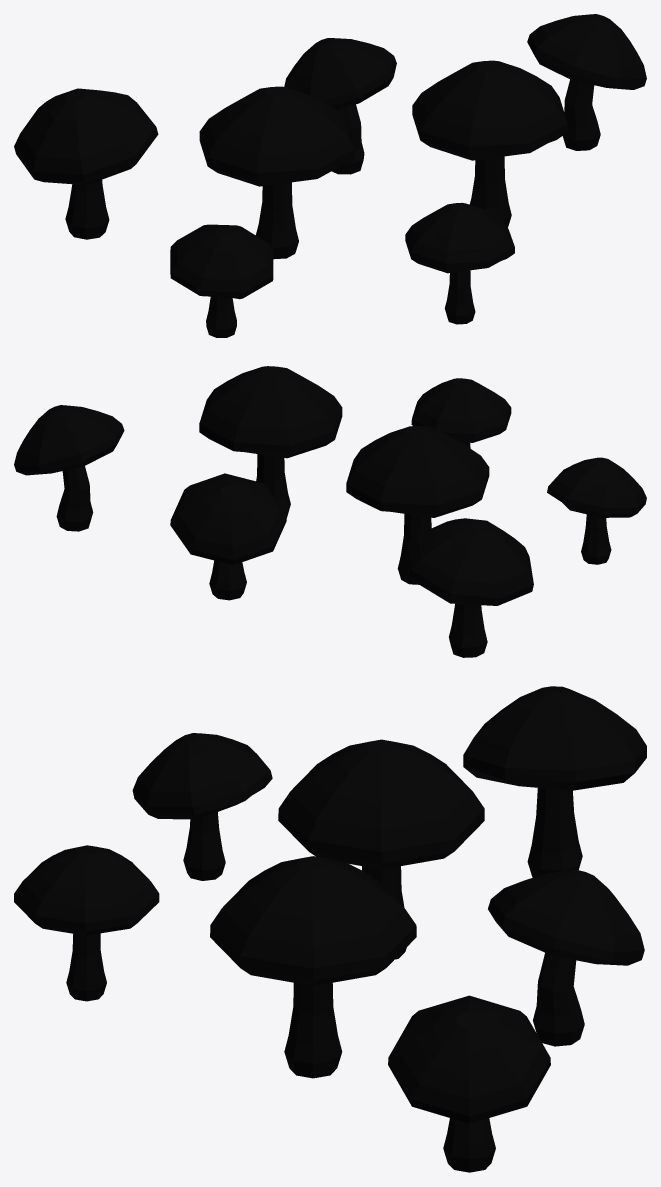
The model's file is Mushroom_1_Field.fbx.
The picture shows the model from 3 angles, top to bottom: view 1: azimuth 30°, elevation 25°; view 2: azimuth 150°, elevation 25°; view 3: azimuth 270°, elevation 25°; orthographic projection. The views are drawn at different scales.
Parts seen in each view (by area): view 1: Mushroom_1_Field; view 2: Mushroom_1_Field; view 3: Mushroom_1_Field.
Boxes of the visible parts, <box> form: Mushroom_1_Field: <box>14,14,646,337</box>; Mushroom_1_Field: <box>14,366,646,657</box>; Mushroom_1_Field: <box>14,686,646,1172</box>.
Bounding box in the file's own units: 0.51 × 0.134 × 0.3742.
